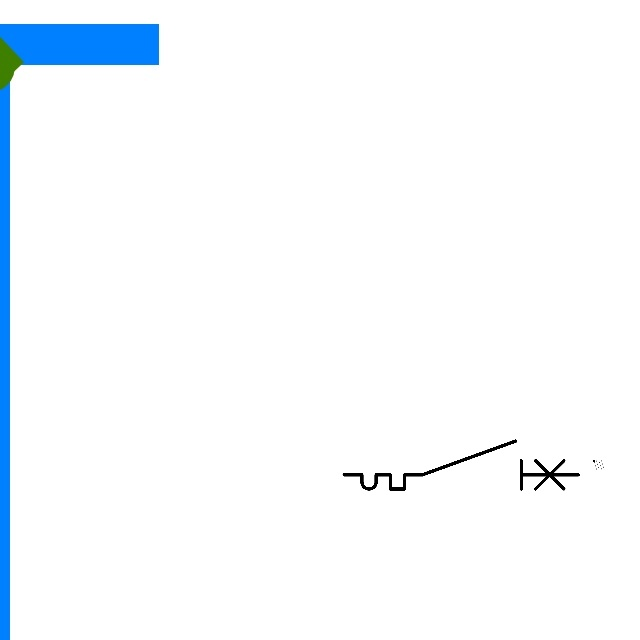interruptor_termomagnetico: (338, 435, 584, 495)
